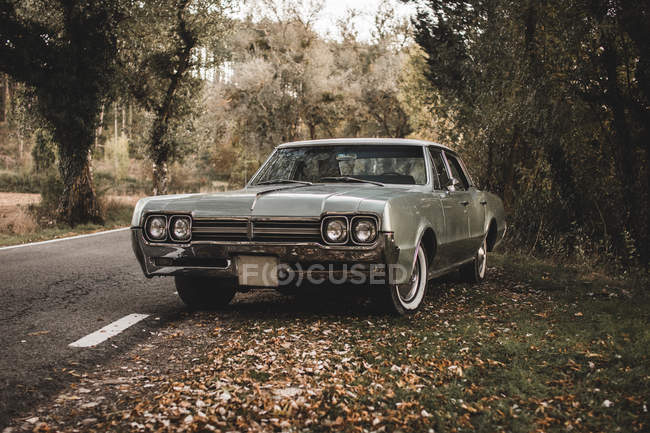car: (131, 140, 512, 312)
